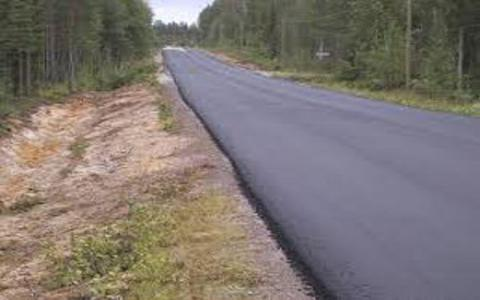Proper road: (234, 77, 370, 214)
